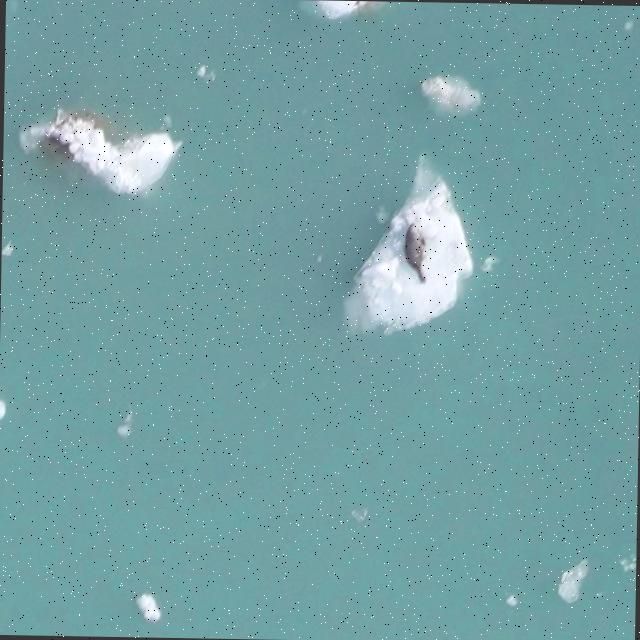seal: (401, 219, 427, 284)
